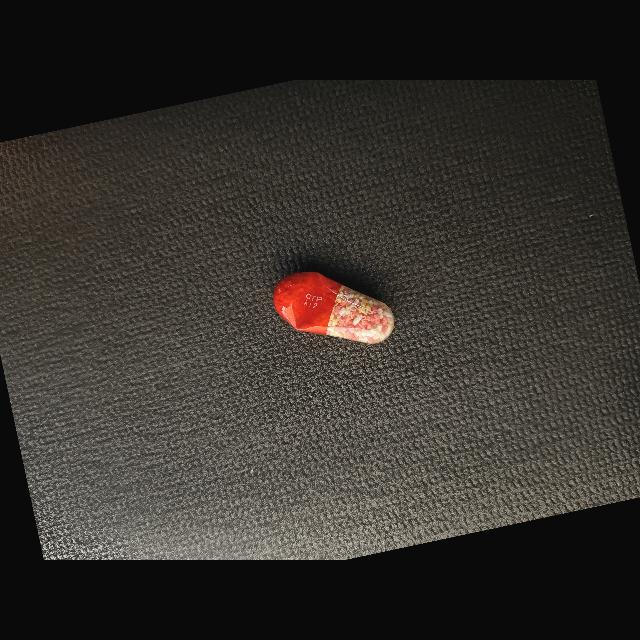Defective Capsule: (273, 272, 395, 344)
